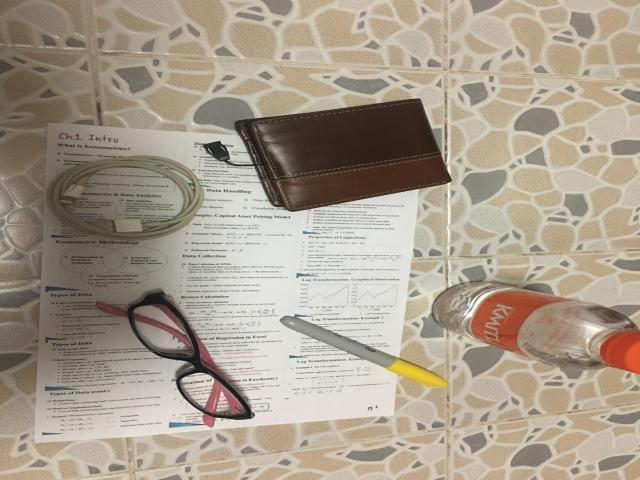Glasses: (128, 292, 253, 427)
Pen: (280, 316, 448, 387)
Wallet: (235, 98, 452, 211)
bottle: (433, 283, 638, 373)
paper: (33, 124, 426, 442)
wire: (47, 156, 203, 240)
